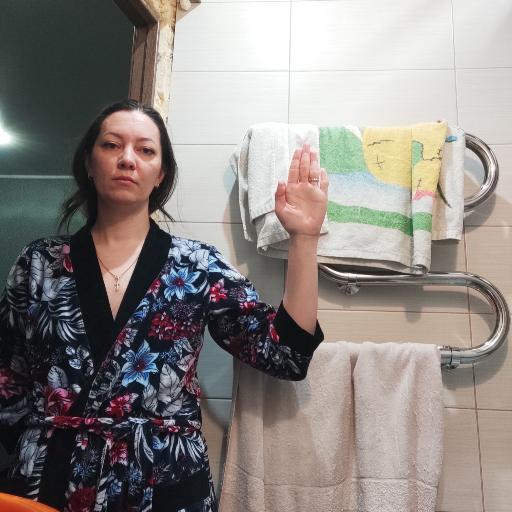stop: (271, 141, 331, 240)
